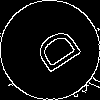D: (25, 25, 83, 81)
